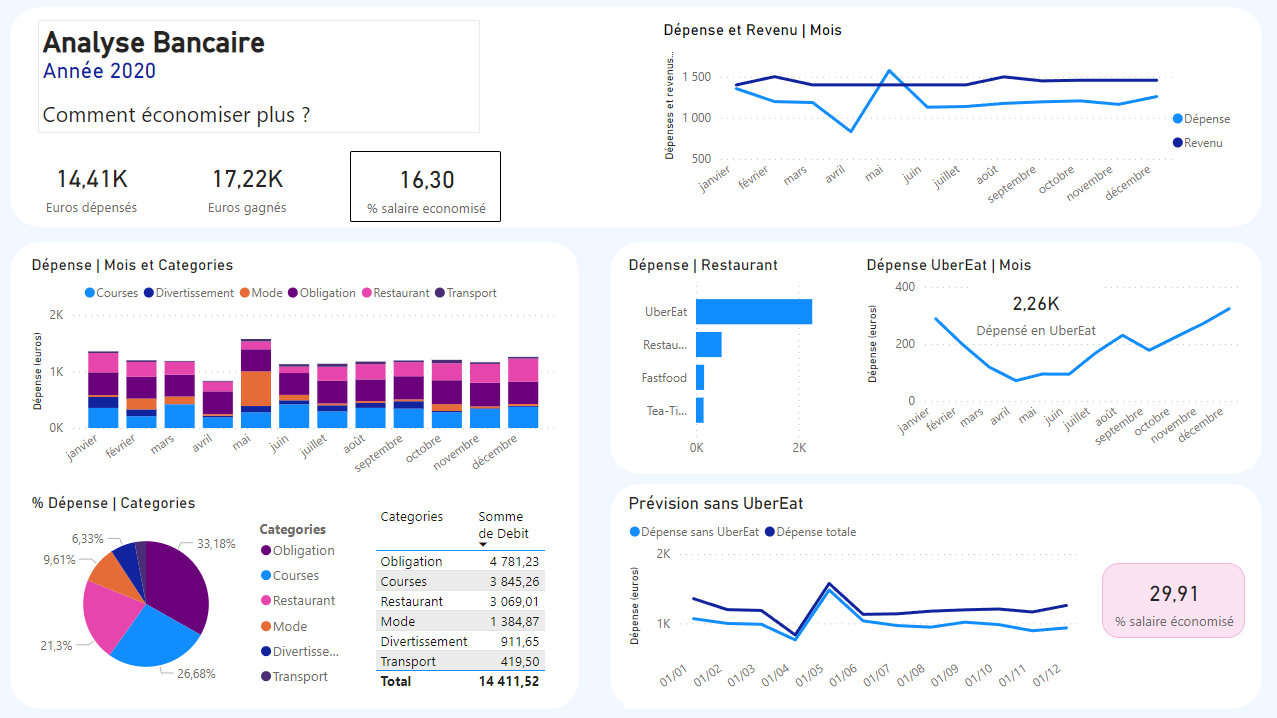

The dashboard page shown, as its layout file describes it:
{"tool":"powerbi","page":{"name":"Page 4","canvas":[1280,720],"ordinal":0},"visuals":[{"type":"shape","box":[612,485,652,225],"z":0},{"type":"shape","box":[12,243,569,467],"z":1000},{"type":"shape","box":[12,8,1252,220],"z":2000},{"type":"lineChart","title":"Dépense et Revenu | Mois","fields":{"Category":["WorkingSheet.Date.Variation.Hiérarchie de dates.Mois"],"Y":["Sum(WorkingSheet.Debit)","Sum(WorkingSheet.Crédit)"]},"box":[661,21,586,202],"z":3000},{"type":"card","fields":{"Values":["Subtract(const, Multiply(Divide(Sum(WorkingSheet.Debit), Sum(WorkingSheet.Crédit)), const))"]},"box":[352,152,151,71],"z":4000},{"type":"columnChart","title":"Dépense | Mois et Categories","fields":{"Category":["WorkingSheet.Date.Variation.Hiérarchie de dates.Mois"],"Series":["WorkingSheet.Categories"],"Y":["Sum(WorkingSheet.Debit)"]},"box":[29,256,532,238],"z":5000},{"type":"pieChart","title":"% Dépense | Categories","fields":{"Category":["WorkingSheet.Categories"],"Y":["Sum(WorkingSheet.Debit)"]},"box":[29,494,336,204],"z":6000},{"type":"shape","box":[612,243,652,232],"z":7000},{"type":"tableEx","fields":{"Values":["WorkingSheet.Categories","Sum(WorkingSheet.Debit)"]},"box":[372,502,189,196],"z":8000},{"type":"clusteredBarChart","title":"Dépense | Restaurant","fields":{"Category":["WorkingSheet.Sous-categorie"],"Y":["Sum(WorkingSheet.Debit)"]},"box":[626,256,238,211],"z":9000},{"type":"lineChart","title":"Dépense UberEat | Mois","fields":{"Category":["WorkingSheet.Date.Variation.Hiérarchie de dates.Mois"],"Y":["Sum(WorkingSheet.Debit)"]},"box":[864,256,383,211],"z":10000},{"type":"card","fields":{"Values":["Sum(WorkingSheet.Debit)"]},"box":[972,282,132,61],"z":11000},{"type":"lineChart","title":"Prévision sans UberEat","fields":{"Category":["Somme de Debit par MoisUberEat.Mois"],"Y":["Somme de Debit par MoisUberEat.Somme de Debit moins Somme de Debit UE","Sum(Somme de Debit par MoisUberEat.Somme de Debit)"]},"box":[626,494,461,216],"z":12000},{"type":"card","fields":{"Values":["Subtract(const, Multiply(Divide(Somme de Debit par MoisUberEat.Somme de Debit moins Somme de Debit UE, Sum(WorkingSheet."]},"box":[1104,564,143,75],"z":13000},{"type":"card","fields":{"Values":["Sum(WorkingSheet.Debit)"]},"box":[38,152,111,71],"z":14000},{"type":"card","fields":{"Values":["Sum(WorkingSheet.Crédit)"]},"box":[171,152,156,71],"z":15000},{"type":"textbox","box":[40,21,442,113],"z":16000}]}

Visuals, with their boxes in screenshot pixels (x1, y1, x2, y2), scaled from the page's 1280x720 canvas onto the 1277x718 screenshot:
shape: <region>611, 484, 1261, 708</region>
shape: <region>12, 242, 580, 708</region>
shape: <region>12, 8, 1261, 227</region>
"Dépense et Revenu | Mois" lineChart: <region>659, 21, 1244, 222</region>
card - Subtract(const, Multiply(Divide(Sum(WorkingSheet.Debit), Sum(WorkingSheet.Crédit)), const)): <region>351, 152, 502, 222</region>
"Dépense | Mois et Categories" columnChart: <region>29, 255, 560, 493</region>
"% Dépense | Categories" pieChart: <region>29, 493, 364, 696</region>
shape: <region>611, 242, 1261, 474</region>
tableEx - WorkingSheet.Categories x Sum(WorkingSheet.Debit): <region>371, 501, 560, 696</region>
"Dépense | Restaurant" clusteredBarChart: <region>625, 255, 862, 466</region>
"Dépense UberEat | Mois" lineChart: <region>862, 255, 1244, 466</region>
card - Sum(WorkingSheet.Debit): <region>970, 281, 1101, 342</region>
"Prévision sans UberEat" lineChart: <region>625, 493, 1084, 708</region>
card - Subtract(const, Multiply(Divide(Somme de Debit par MoisUberEat.Somme de Debit moins Somme de Debit UE, Sum(WorkingSheet.: <region>1101, 562, 1244, 637</region>
card - Sum(WorkingSheet.Debit): <region>38, 152, 149, 222</region>
card - Sum(WorkingSheet.Crédit): <region>171, 152, 326, 222</region>
textbox: <region>40, 21, 481, 134</region>
